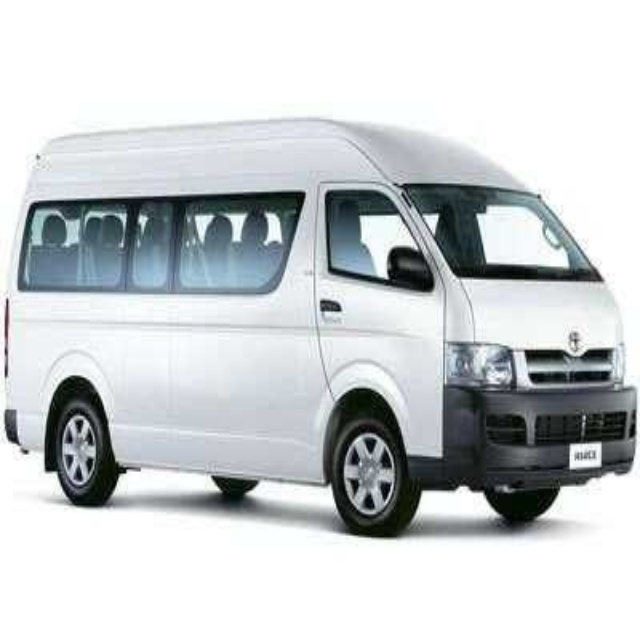Van: (2, 115, 640, 538)
